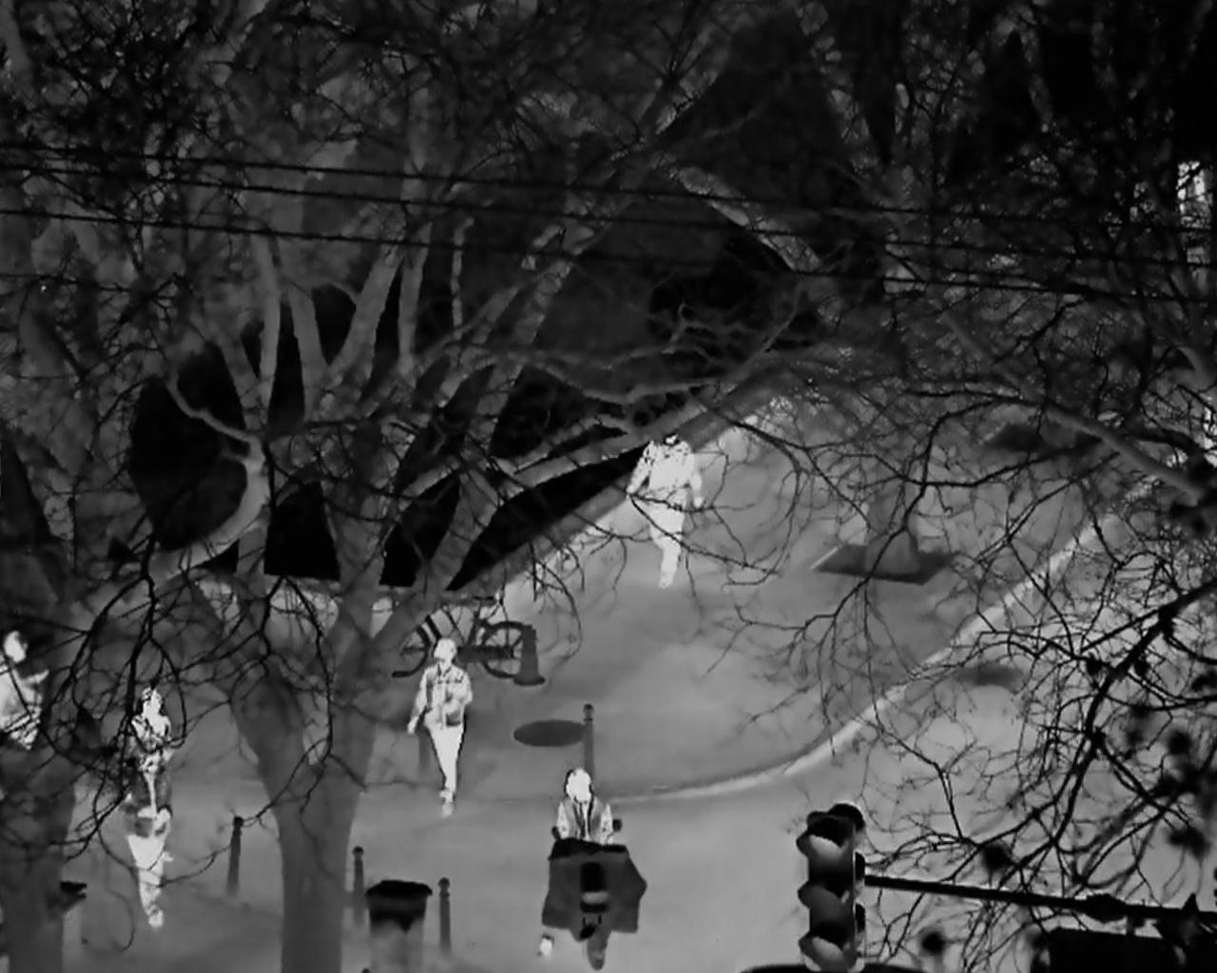person: (624, 429, 704, 586), (406, 636, 473, 819), (119, 743, 169, 929), (555, 767, 615, 849)
